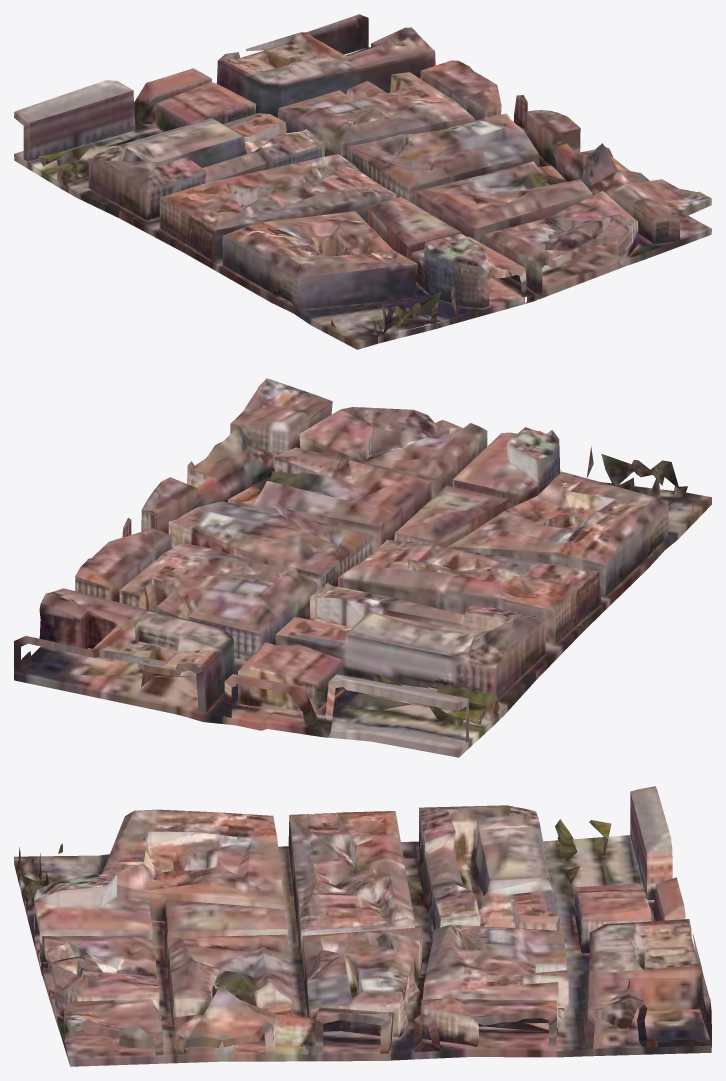
The picture shows the model from 3 angles, top to bottom: view 1: azimuth 30°, elevation 25°; view 2: azimuth 150°, elevation 25°; view 3: azimuth 270°, elevation 25°; orthographic projection. The views are drawn at different scales.
Visible parts, largest first — view 1: Mesh_0; view 2: Mesh_0; view 3: Mesh_0.
Boxes of the visible parts, bbox=[...] form: Mesh_0: bbox=[14, 14, 711, 349]; Mesh_0: bbox=[14, 378, 711, 757]; Mesh_0: bbox=[14, 786, 711, 1066].
Size of the model in its own units: 266 by 43.03 by 329.
Materials: 2 (2 with a texture image).
